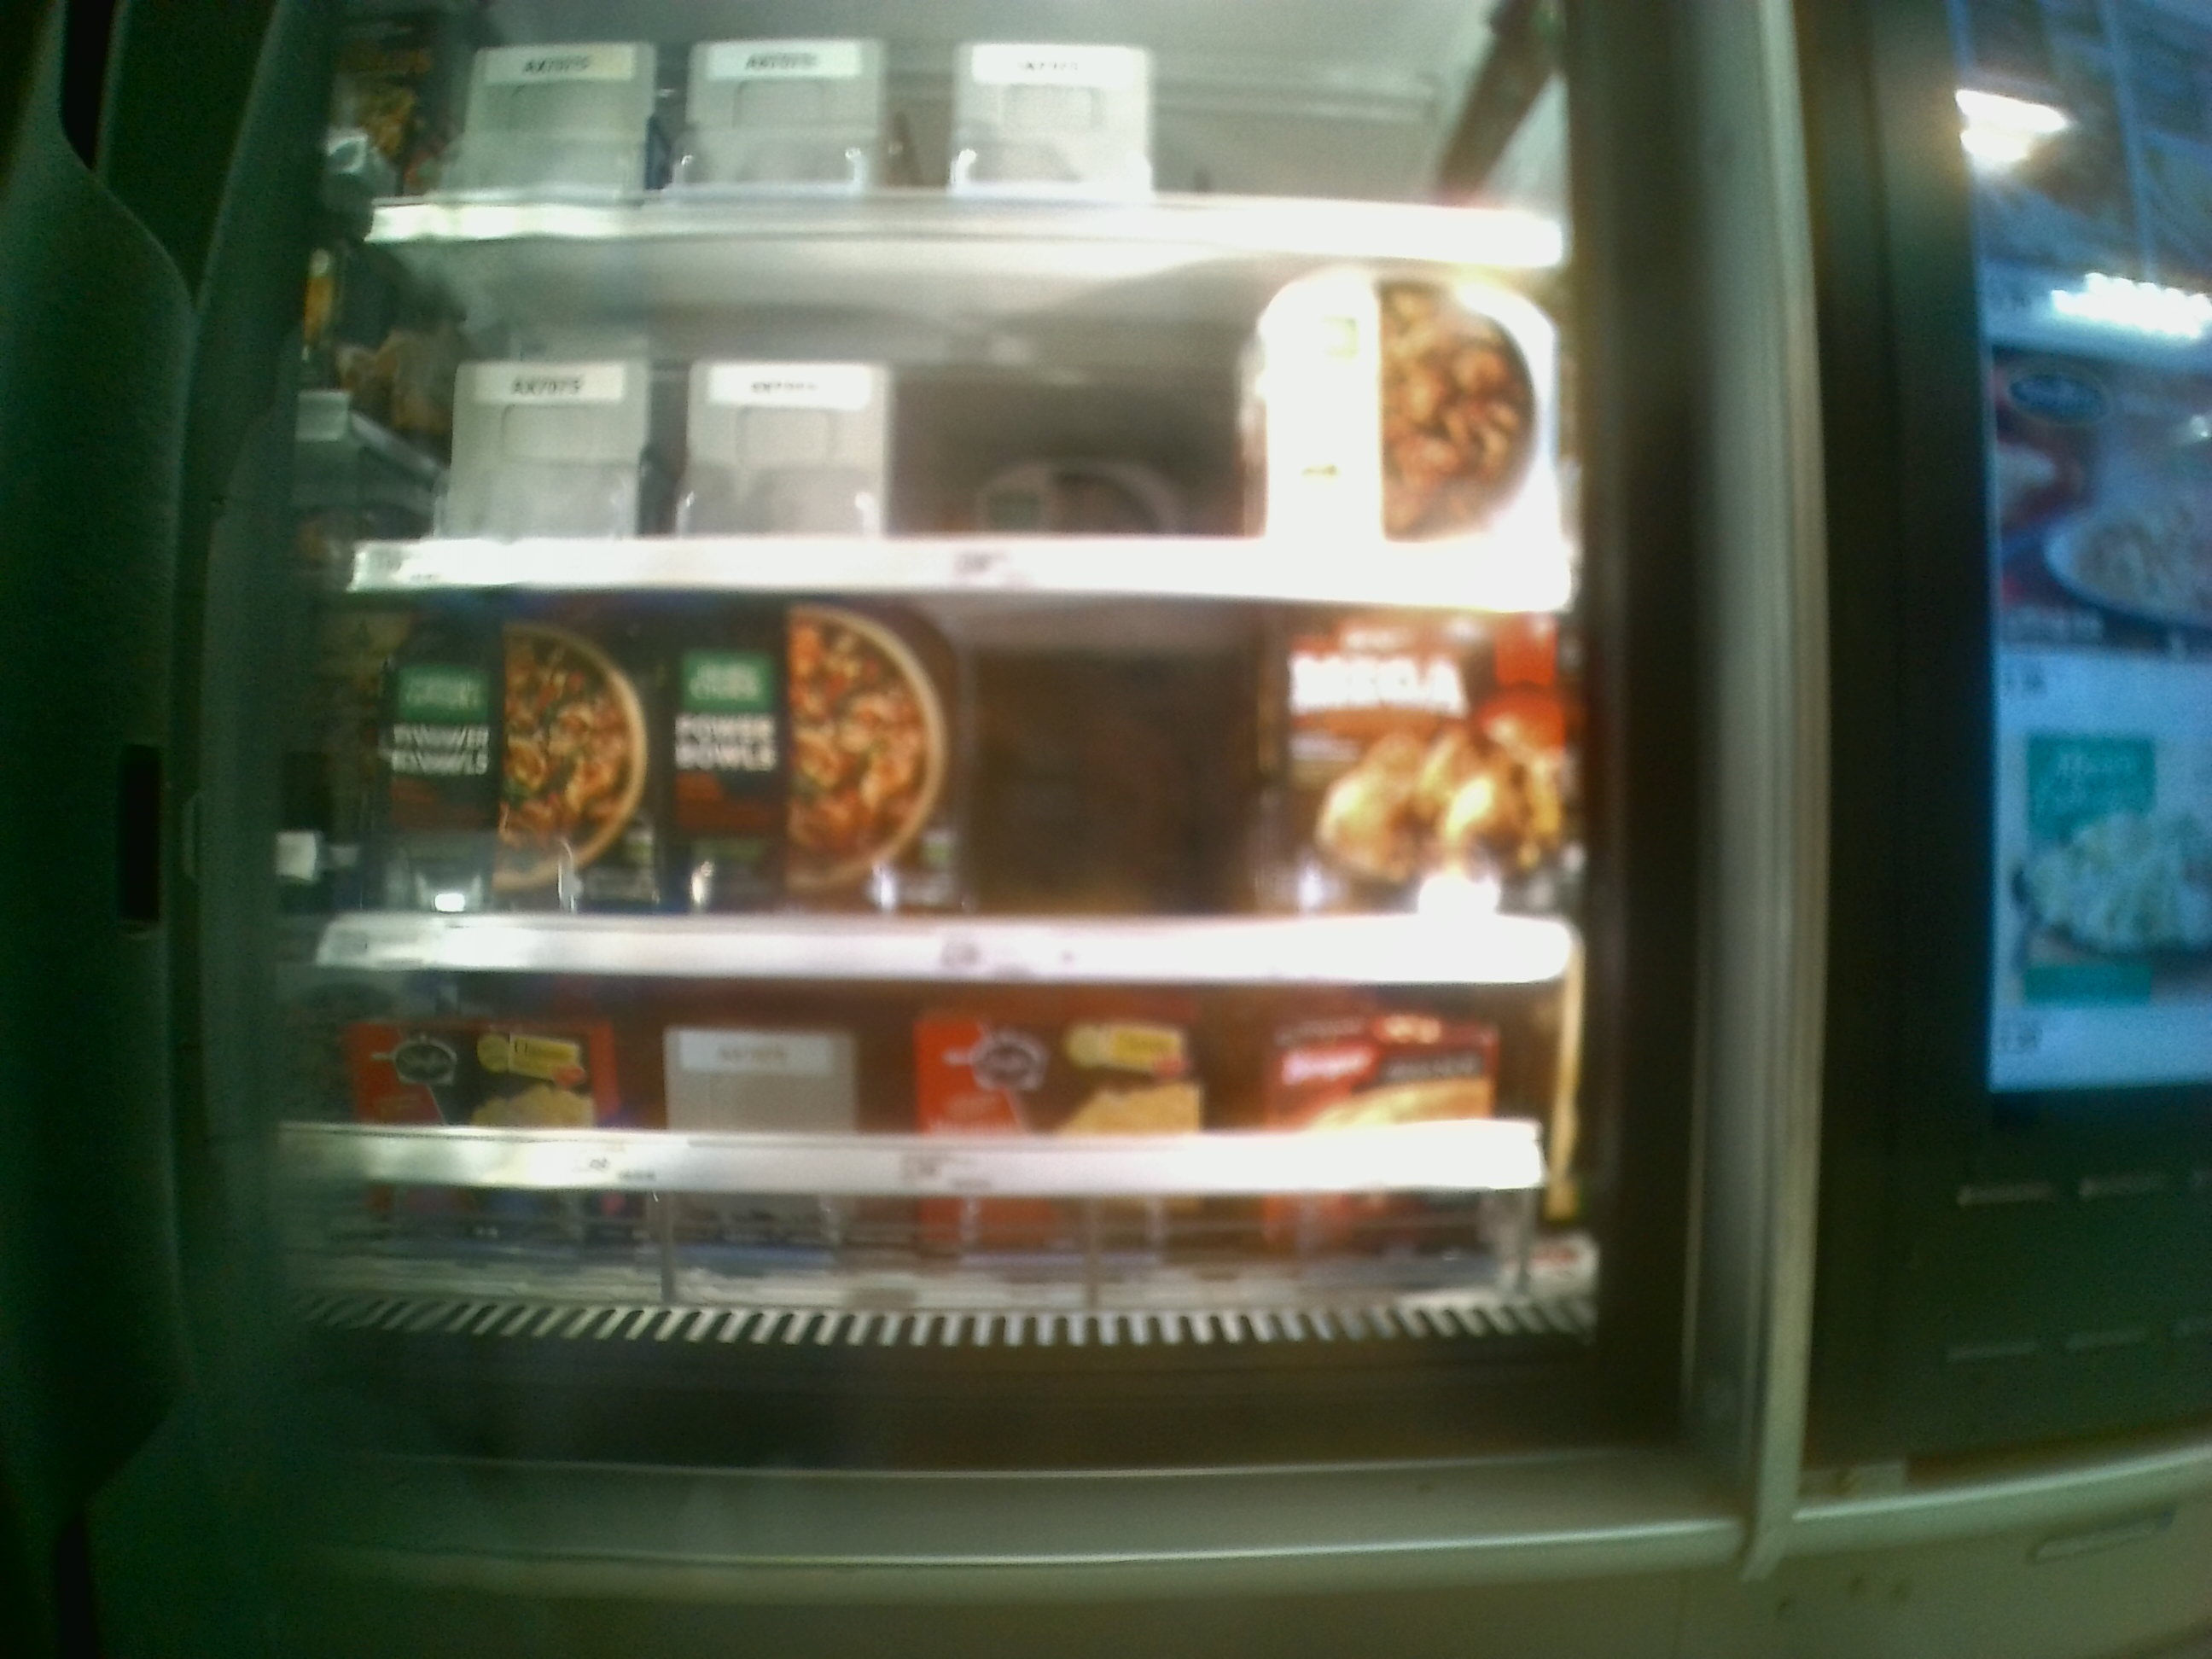Shelf: (301, 967, 1601, 1359), (340, 592, 1590, 985), (348, 230, 1571, 601)
